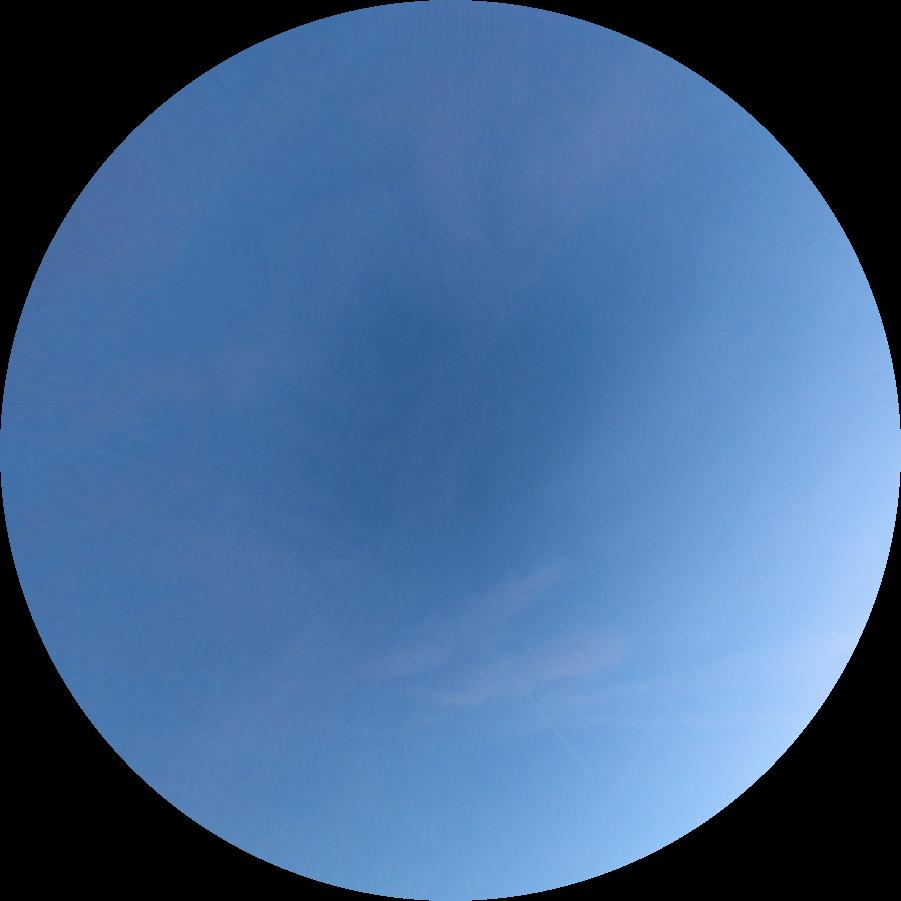contrail veryold: (536, 376, 806, 887), (330, 642, 859, 753)
contrail young: (373, 487, 592, 772)
